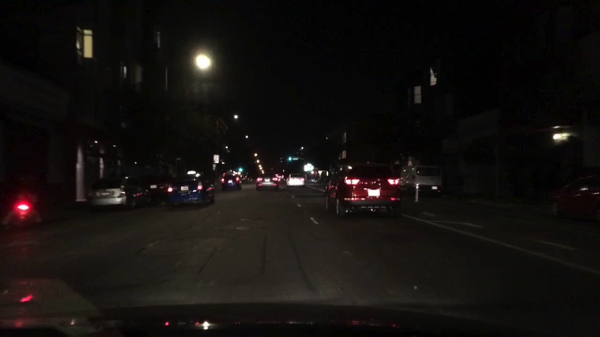car: (322, 161, 402, 225), (548, 170, 598, 224), (84, 176, 149, 209), (168, 170, 216, 208), (398, 163, 443, 198), (144, 175, 176, 201), (219, 170, 242, 191), (255, 173, 278, 191), (285, 174, 306, 190)
motor: (10, 192, 41, 226)
rider: (2, 170, 39, 225)
